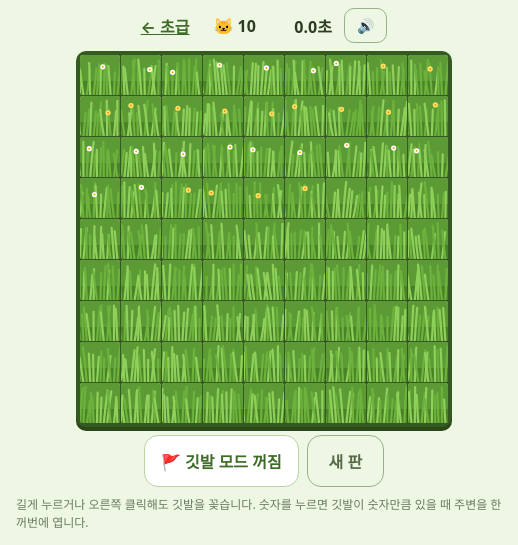
Scenario: SinglePlayPage › [성공] 깃발 모드에서 누르면 깃발을 꽂고 남은 고양이 수가 줄어든다
The width and height of the screenshot is (518, 545).
Click the button "🚩 깃발 모드 꺼짐": (221, 461) [144,435,299,487]
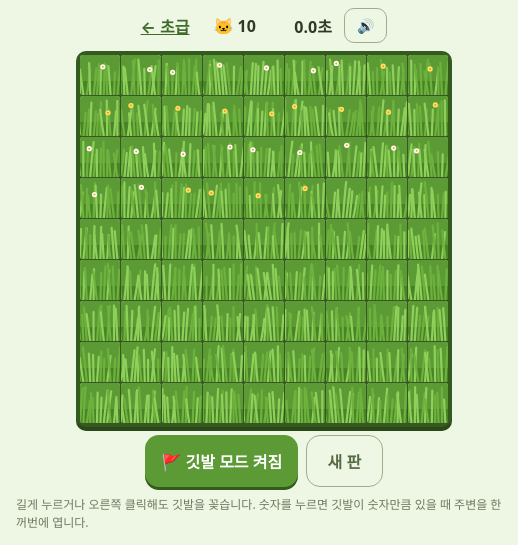
Click the button named "0,0": (100, 75) [80,55,120,95]
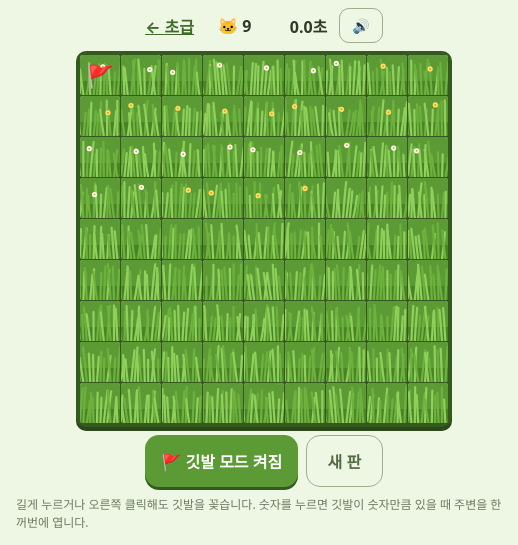
Expected: the button named "0,0" reads "🚩", [80,55,120,95]
Expected: the text "🐱 9" is shown, [218,14,251,36]
